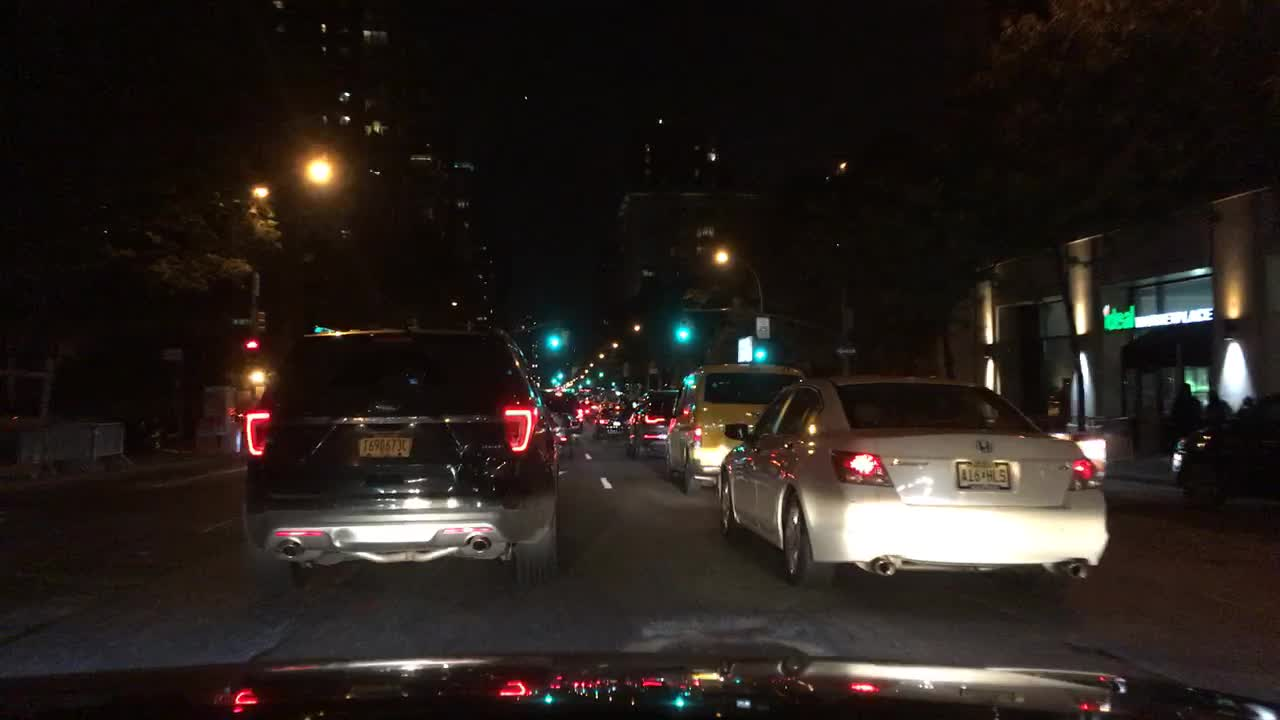car: (717, 369, 1112, 613), (241, 326, 564, 587), (661, 361, 805, 492), (1169, 386, 1277, 507), (623, 387, 678, 455), (85, 407, 167, 451), (541, 389, 572, 454), (595, 401, 634, 440), (555, 389, 585, 430), (750, 342, 768, 362)
person: (1202, 384, 1233, 462), (1168, 374, 1199, 452)
traffic light: (543, 325, 560, 361), (673, 320, 691, 348)
traffic sign: (753, 316, 771, 339)
